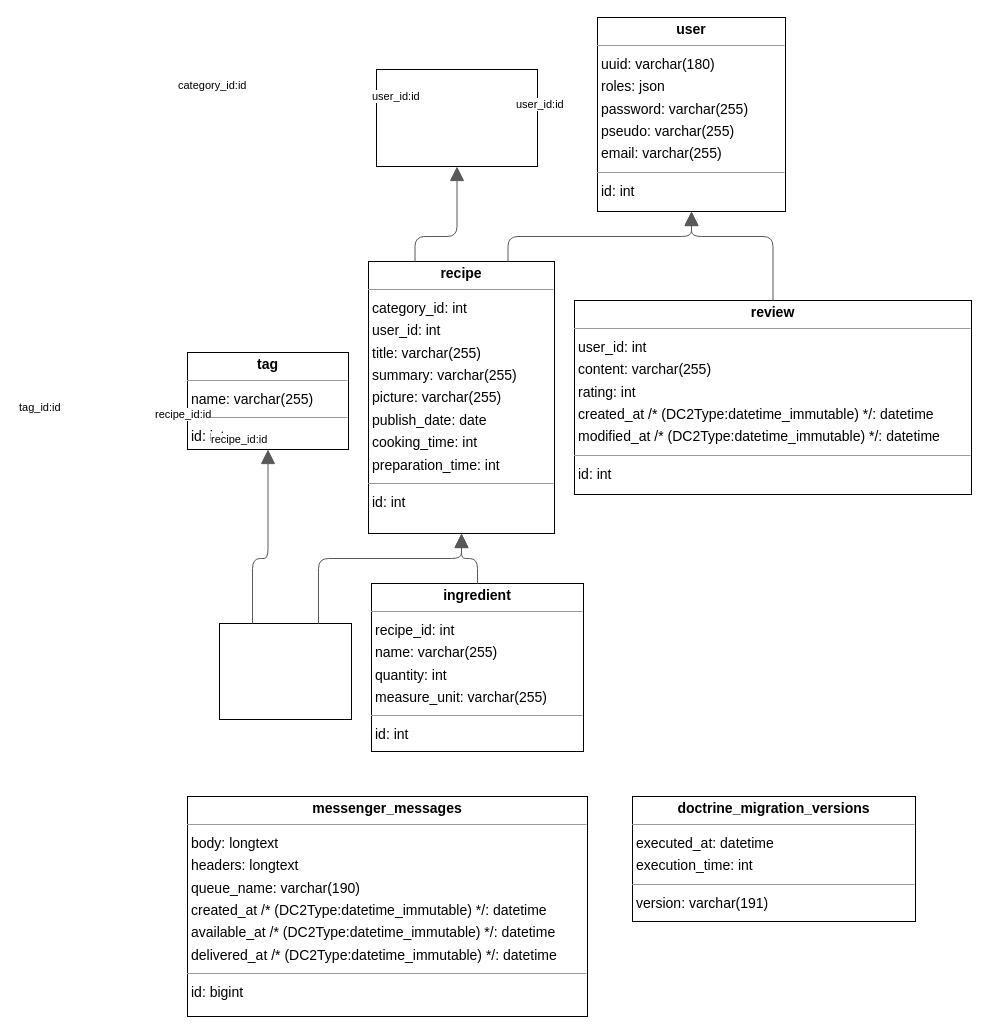
Image size: 989x1034. Some labels were removed from this diagram. Here are the shapes that lost their labels. From the top down, the centre of each, then its label:
(457,117): category name: varchar(255) id: int
(285,671): recipe_tag recipe_id: int tag_id: int
